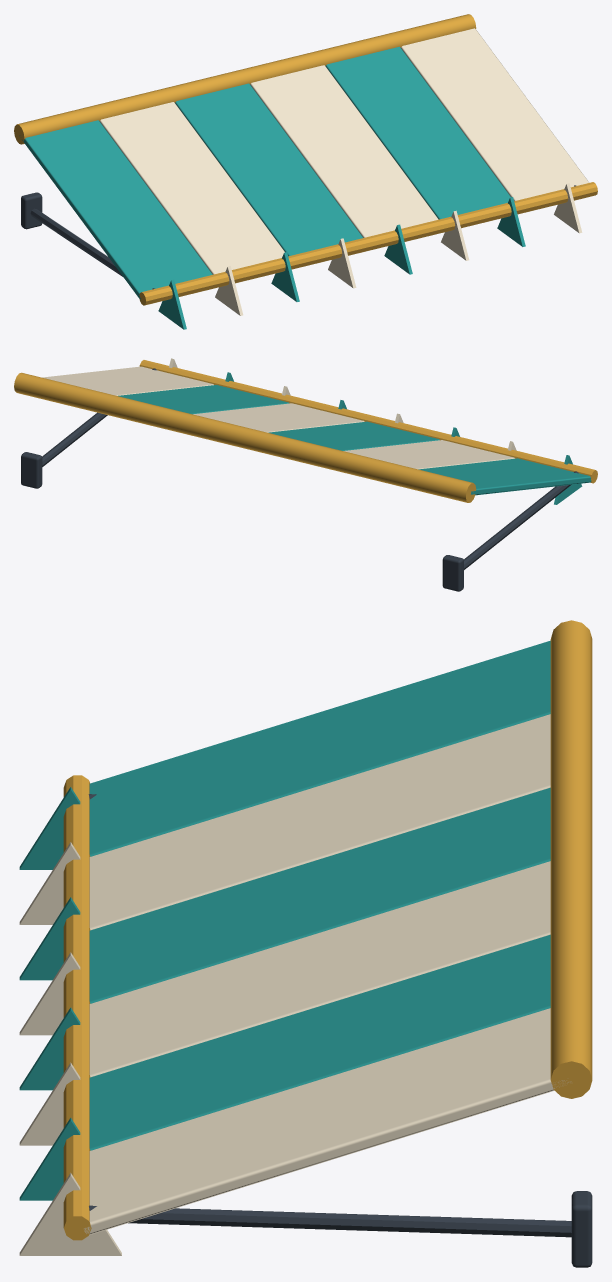
Rendered from awning.glb.
3 views of the same model, one above another, from view 1: azimuth 30°, elevation 25°; view 2: azimuth 150°, elevation 25°; view 3: azimuth 270°, elevation 25° (orthographic). The views are drawn at different scales.
Parts seen in each view (by area): view 1: awning_body; view 2: awning_body; view 3: awning_body.
Boxes of the visible parts, bbox=[...] form: awning_body: bbox=[14, 14, 597, 329]; awning_body: bbox=[14, 358, 597, 591]; awning_body: bbox=[19, 620, 592, 1267].
Size of the model in its own units: 3 by 0.7 by 1.65.
